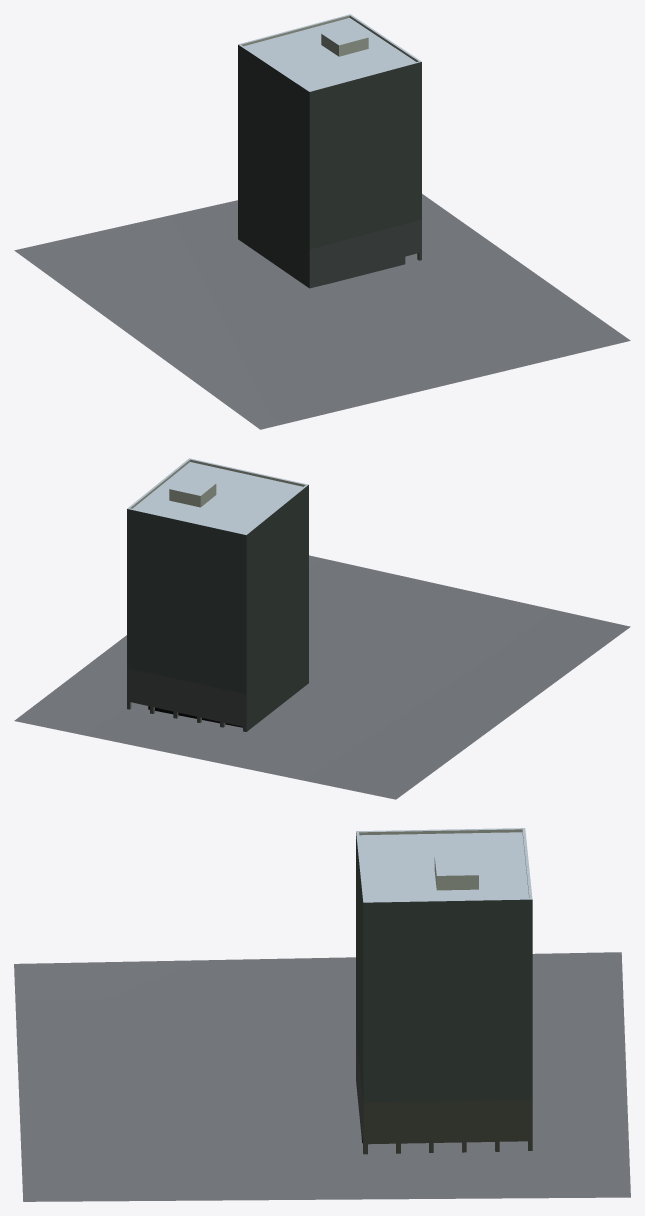
Rendered from liberty-tower.glb.
3 views of the same model, one above another, from view 1: azimuth 30°, elevation 25°; view 2: azimuth 150°, elevation 25°; view 3: azimuth 270°, elevation 25° (orthographic). The views are drawn at different scales.
Parts seen in each view (by area): view 1: LOD0; view 2: LOD0; view 3: LOD0.
Part boxes in pixels (left/top/right/bottom): LOD0: left=14, top=14, right=630, bottom=429; LOD0: left=14, top=458, right=630, bottom=799; LOD0: left=14, top=828, right=630, bottom=1201.
Size of what is drawn, in the model's own units: 116 by 60.79 by 129.
Materials: 1 (1 with a texture image).
